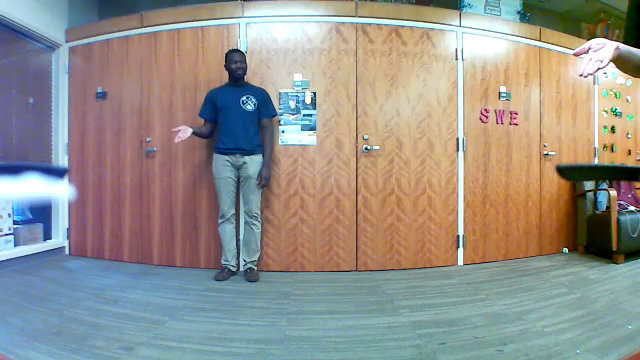land: (568, 36, 635, 84), (169, 122, 197, 145)
